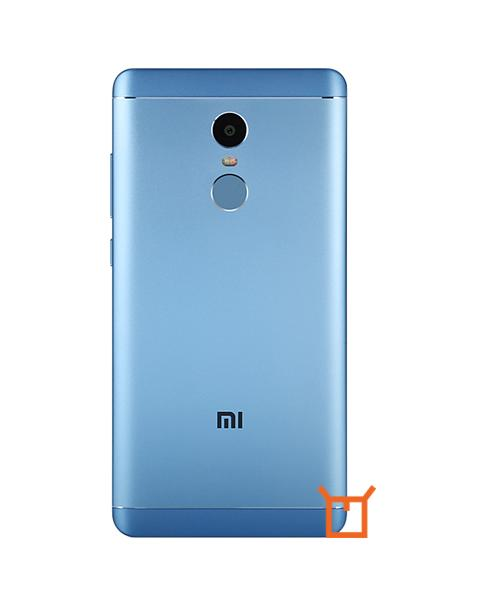Handphone: (106, 63, 354, 545)
